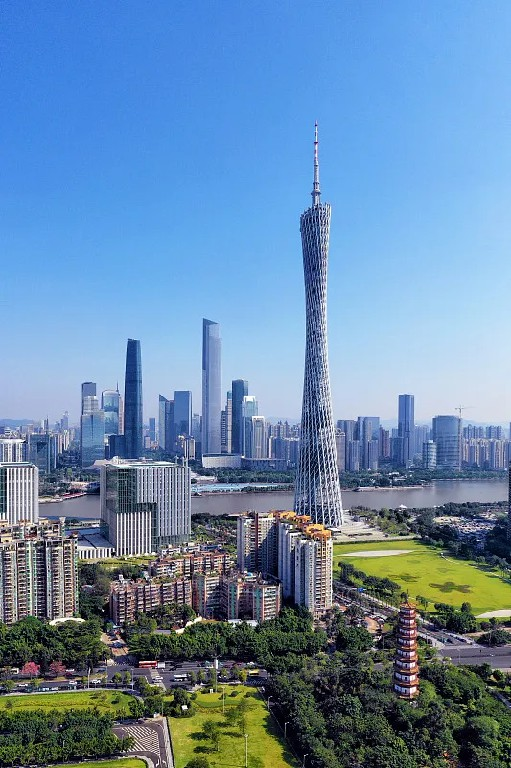Canton: (297, 117, 345, 527)
